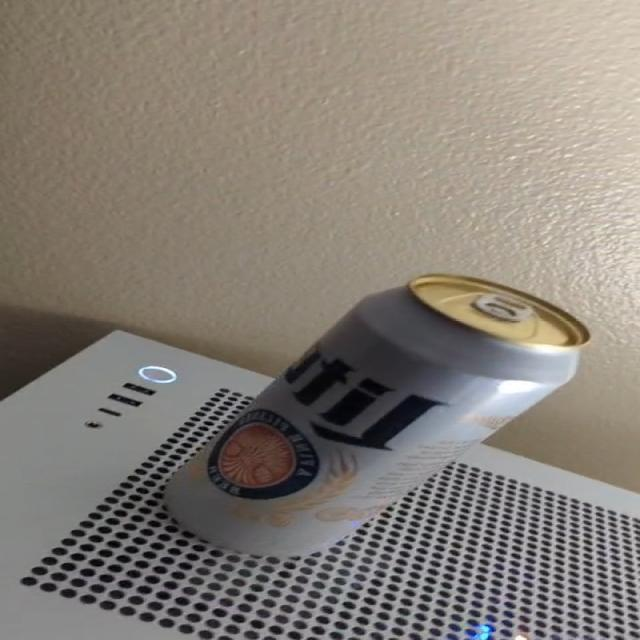metal: (166, 275, 589, 556)
